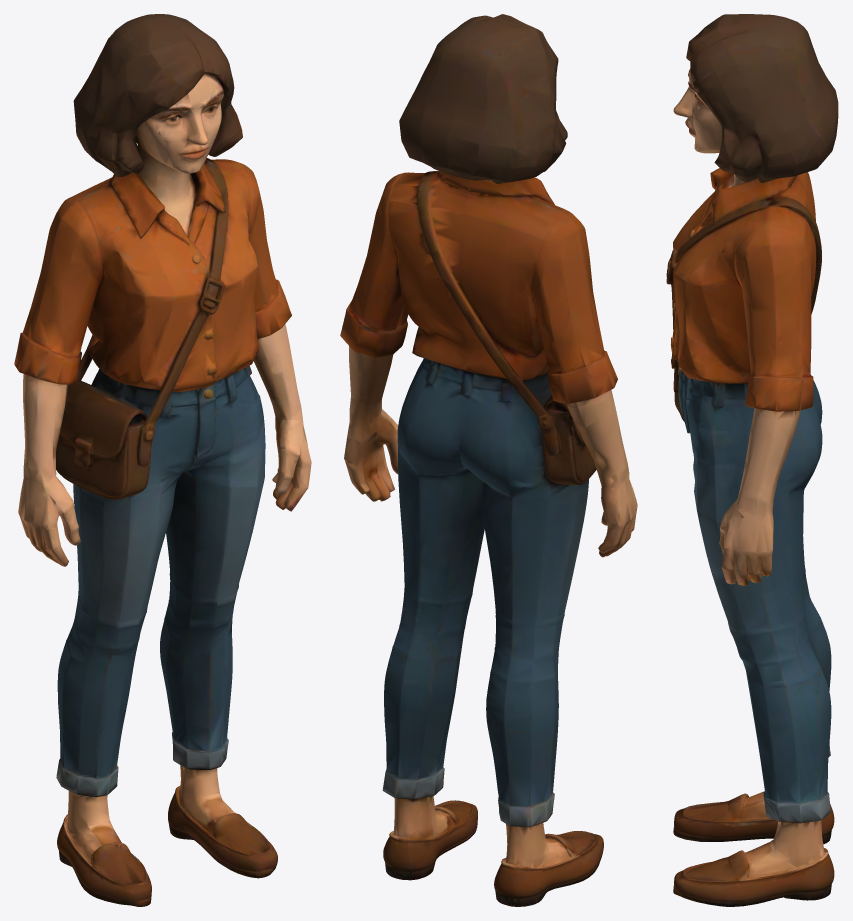
File: 30to50_Female.glb
The picture shows the model from 3 angles, left to right: view 1: azimuth 30°, elevation 25°; view 2: azimuth 150°, elevation 25°; view 3: azimuth 270°, elevation 25°; orthographic projection.
Parts seen in each view (by area): view 1: node_0; view 2: node_0; view 3: node_0.
Part boxes in pixels (x1,y1,x2,y2): node_0: (14,14,311,906); node_0: (340,14,637,906); node_0: (666,14,838,906).
Bounding box in the file's own units: 0.4093 × 1.17 × 0.2163.
Materials: 1 (1 with a texture image).
